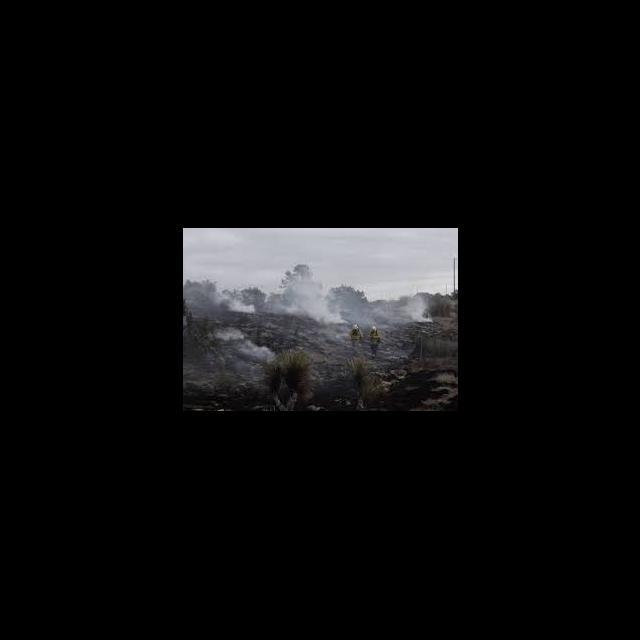Smoke: (222, 276, 426, 325), (212, 329, 272, 361)
